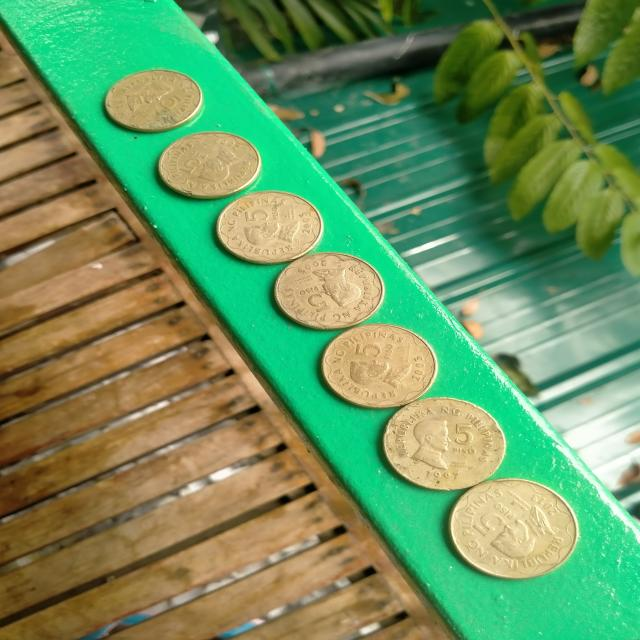5_Old_Front: (398, 409, 499, 484), (288, 257, 373, 321), (333, 337, 422, 396)
